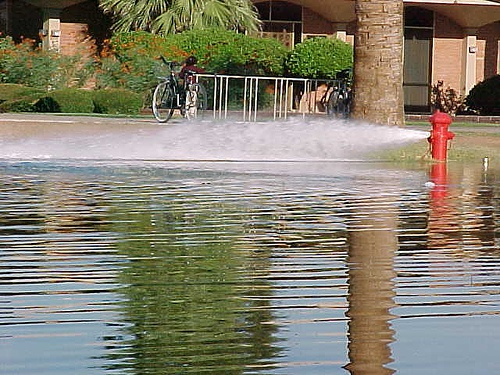non-vehicle: (151, 53, 207, 124), (324, 67, 350, 119)
